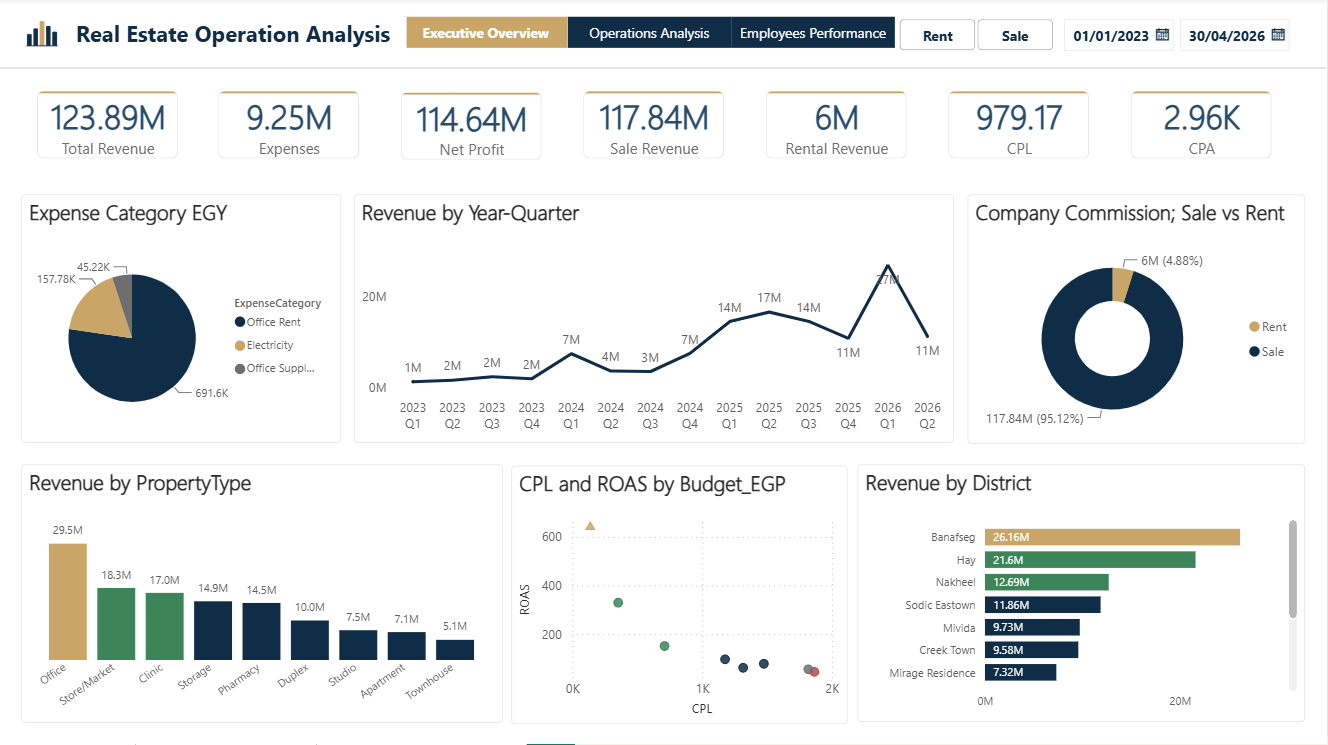

What the dashboard file says about the page in this screenshot:
{"tool":"powerbi","page":{"name":"Executive Overview","canvas":[1280,720],"ordinal":0},"visuals":[{"type":"image","box":[20,15,40,40],"z":0},{"type":"shape","box":[0,62,1280,12],"z":1000},{"type":"pageNavigator","box":[390,18,475,30],"z":2000},{"type":"cardVisual","fields":{"Data":["Measures_P.1.Total Company Commission"]},"box":[20,75,166,95],"z":3000},{"type":"textbox","box":[72,18,320,35],"z":4000},{"type":"cardVisual","fields":{"Data":["Measures_P.1.Total Sale Company Commission"]},"box":[548,75,166,95],"z":5000},{"type":"cardVisual","fields":{"Data":["Measures_P.1.Net Profit"]},"box":[372,76,166,95],"z":6000},{"type":"cardVisual","fields":{"Data":["Measures_P.1.Total Expenses"]},"box":[196,75,166,95],"z":7000},{"type":"cardVisual","fields":{"Data":["Measures_P.1.CPL"]},"box":[900,75,166,95],"z":8000},{"type":"cardVisual","fields":{"Data":["Measures_P.1.Total Rental Revenue"]},"box":[724,75,166,95],"z":9000},{"type":"cardVisual","fields":{"Data":["Measures_P.1.CPA"]},"box":[1076,75,166,95],"z":10000},{"type":"lineChart","title":"Revenue by Year-Quarter","fields":{"Category":["Dim_Date.YearQuarter"],"Y":["Measures_P.1.Total Company Commission"]},"box":[341.4,189.4,579.1,240.1],"z":11000},{"type":"donutChart","title":"Company Commission; Sale vs Rent","fields":{"Y":["Measures_P.1.Total Rental Revenue","Measures_P.1.Total Sale Company Commission"]},"box":[933.8,189.5,325.7,240.8],"z":12000},{"type":"columnChart","title":"Revenue by PropertyType","fields":{"Category":["Dim_Properties.PropertyType"],"Y":["Measures_P.1.Total Company Commission"]},"box":[20.5,450,464.5,249.7],"z":13000},{"type":"barChart","title":"Revenue by District","fields":{"Category":["Dim_Properties.District"],"Y":["Measures_P.1.Total Company Commission"]},"box":[827.2,450.1,432.3,248.7],"z":14000},{"type":"scatterChart","fields":{"Y":["Measures_P.1.ROAS"],"X":["Measures_P.1.CPL"],"Category":["Dim_Marketing_Campaigns.Budget_EGP"]},"box":[493.4,451.2,324.5,249.7],"z":15000},{"type":"donutChart","title":"Expense Category EGY","fields":{"Category":["Fact_Monthly_Expenses.ExpenseCategory"],"Y":["Sum(Fact_Monthly_Expenses.Amount_EGP)"]},"box":[20.5,189.4,308.8,240.1],"z":16000},{"type":"slicer","fields":{"Values":["Dim_Date.Date"]},"box":[1018,15.8,240,43.4],"z":17000},{"type":"advancedSlicerVisual","fields":{"Values":["Dim_Properties.DealCategory"]},"box":[868,20,150.8,30],"z":18000}]}

Visuals, with their boxes in screenshot pixels (x1, y1, x2, y2), scaled from the page's 1280x720 canvas onto the 1328x745 screenshot:
image: bbox=[21, 16, 62, 57]
shape: bbox=[0, 64, 1327, 77]
pageNavigator: bbox=[405, 19, 897, 50]
cardVisual - Measures_P.1.Total Company Commission: bbox=[21, 78, 193, 176]
textbox: bbox=[75, 19, 407, 55]
cardVisual - Measures_P.1.Total Sale Company Commission: bbox=[569, 78, 741, 176]
cardVisual - Measures_P.1.Net Profit: bbox=[386, 79, 558, 177]
cardVisual - Measures_P.1.Total Expenses: bbox=[203, 78, 376, 176]
cardVisual - Measures_P.1.CPL: bbox=[934, 78, 1106, 176]
cardVisual - Measures_P.1.Total Rental Revenue: bbox=[751, 78, 923, 176]
cardVisual - Measures_P.1.CPA: bbox=[1116, 78, 1289, 176]
"Revenue by Year-Quarter" lineChart: bbox=[354, 196, 955, 444]
"Company Commission; Sale vs Rent" donutChart: bbox=[969, 196, 1307, 445]
"Revenue by PropertyType" columnChart: bbox=[21, 466, 503, 724]
"Revenue by District" barChart: bbox=[858, 466, 1307, 723]
scatterChart - Measures_P.1.ROAS x Measures_P.1.CPL: bbox=[512, 467, 849, 725]
"Expense Category EGY" donutChart: bbox=[21, 196, 342, 444]
slicer - Dim_Date.Date: bbox=[1056, 16, 1305, 61]
advancedSlicerVisual - Dim_Properties.DealCategory: bbox=[901, 21, 1057, 52]
